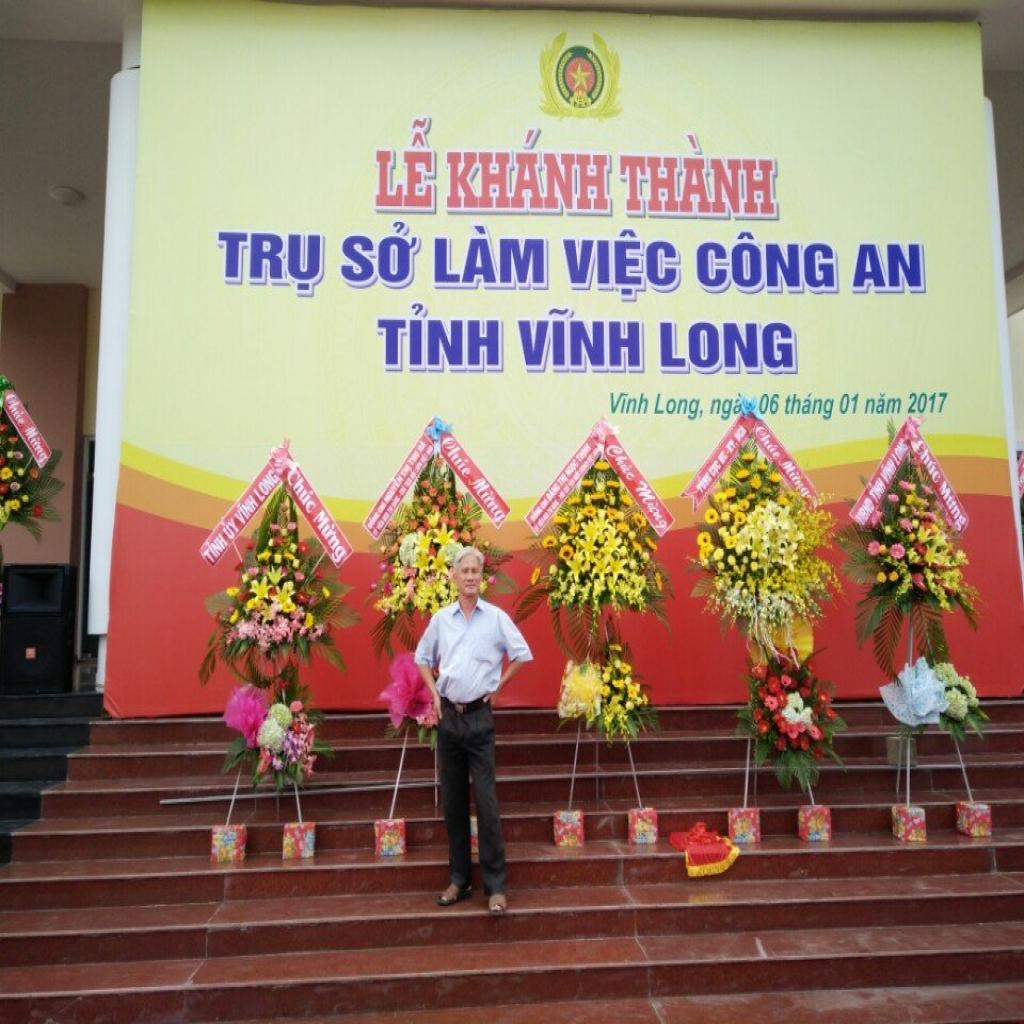text: (446, 124, 613, 218), (618, 130, 780, 224), (694, 228, 843, 297), (374, 302, 506, 374), (561, 226, 682, 304), (513, 306, 646, 375), (658, 320, 801, 378), (433, 222, 549, 291), (216, 230, 326, 299), (374, 112, 438, 216), (340, 218, 422, 292), (850, 242, 928, 298), (309, 506, 352, 569), (630, 477, 673, 536), (462, 475, 509, 528), (284, 465, 321, 518), (437, 434, 476, 482), (652, 392, 707, 424), (781, 392, 837, 422), (603, 439, 638, 485), (912, 436, 944, 486), (18, 424, 52, 468), (752, 421, 784, 464), (707, 390, 745, 424), (200, 528, 230, 569), (252, 466, 282, 506), (3, 390, 31, 431), (906, 391, 950, 417), (232, 490, 260, 530), (610, 391, 653, 417), (863, 391, 906, 417), (865, 472, 889, 508), (853, 495, 878, 529), (382, 472, 405, 508), (777, 457, 803, 485), (877, 454, 898, 488), (889, 436, 910, 470), (219, 511, 240, 543), (837, 391, 862, 417), (758, 393, 781, 418), (406, 448, 422, 468), (724, 436, 738, 456), (556, 472, 570, 491)
